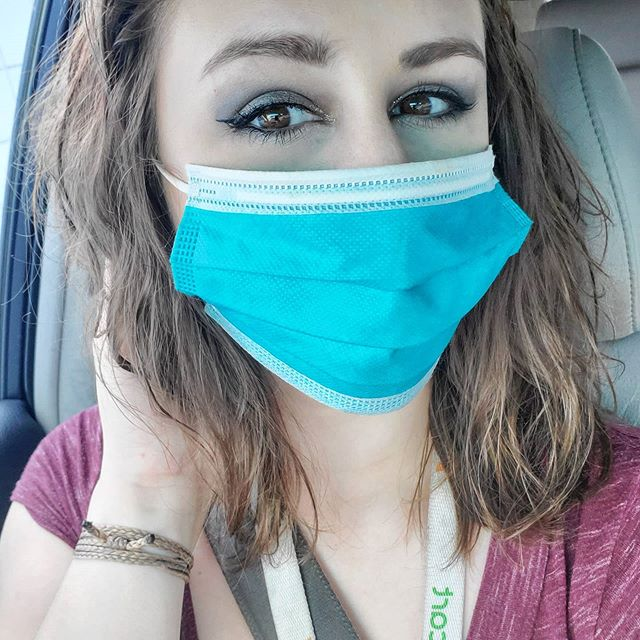surgical: (158, 152, 549, 410)
